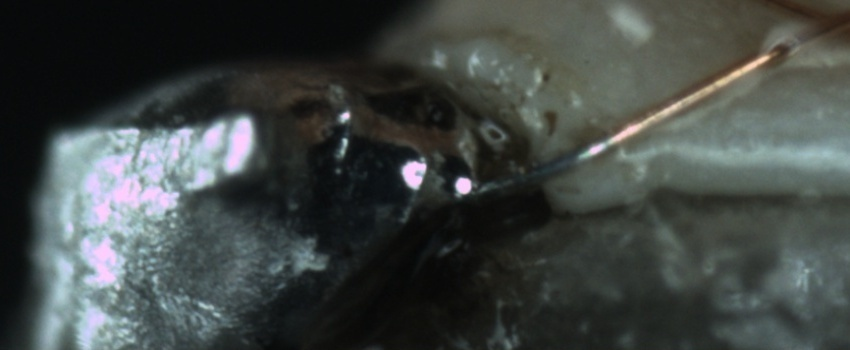TS: (465, 135, 610, 198)
